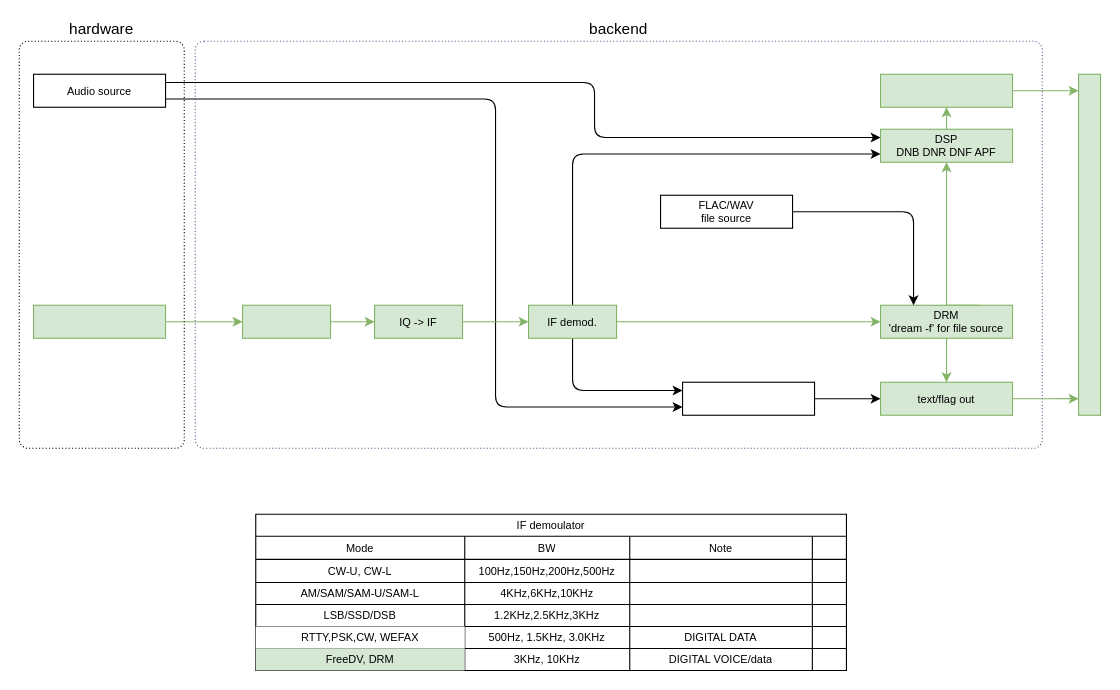
The diagram is 1120 pixels wide and 690 high, and some of its shapes have lost their labels. The shapes that lost their labels are listed below. From the top down, each one's centre as x and y in pixels, then its label:
At point (946, 90): "Audio Out".
At point (1089, 244): "Network".
At point (99, 321): "IQ source".
At point (286, 321): "NB".
At point (748, 398): "digital decode".
